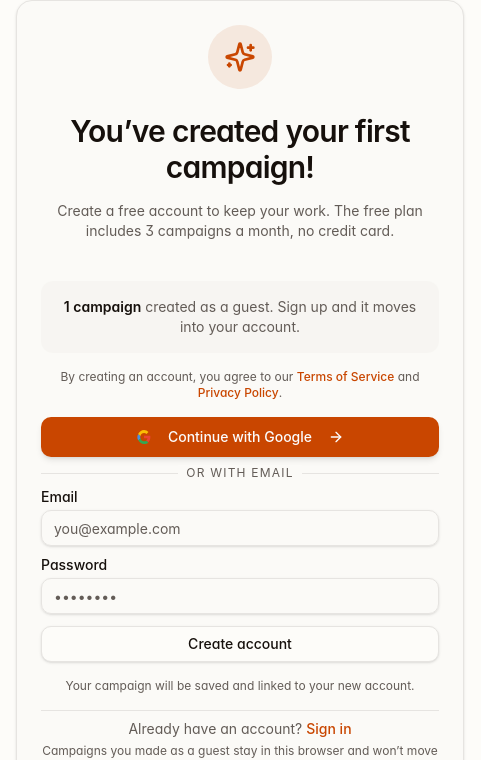
Test case: <UpgradePrompt /> — email upgrade path › maps an "identity already linked" error from linkIdentity
Click the button "Continue with Google". click: (240,437)
box: 41,417 -> 439,457
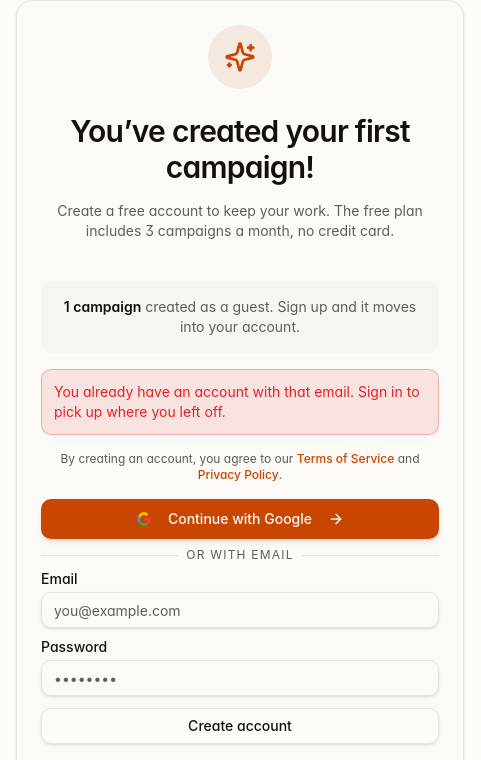
Check: the text "You already have an account with that email. Sign in to pick up where you left off." is shown, box 54,383 -> 420,420
